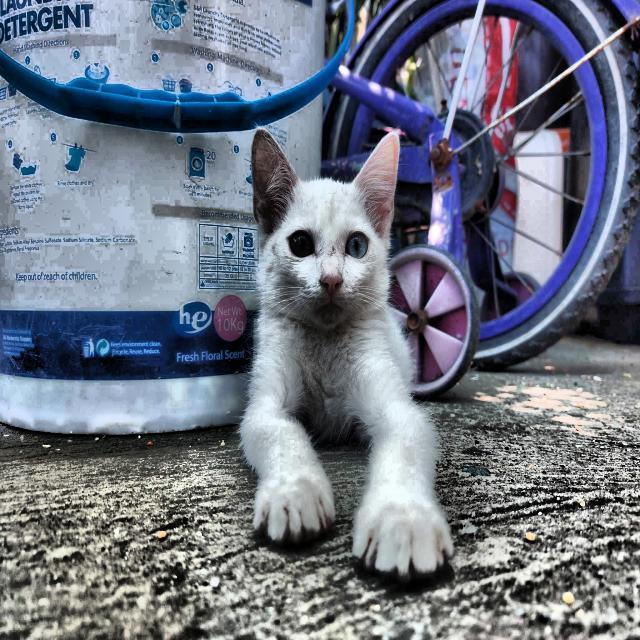Healthy skin: (256, 401, 467, 580), (250, 134, 406, 319)
